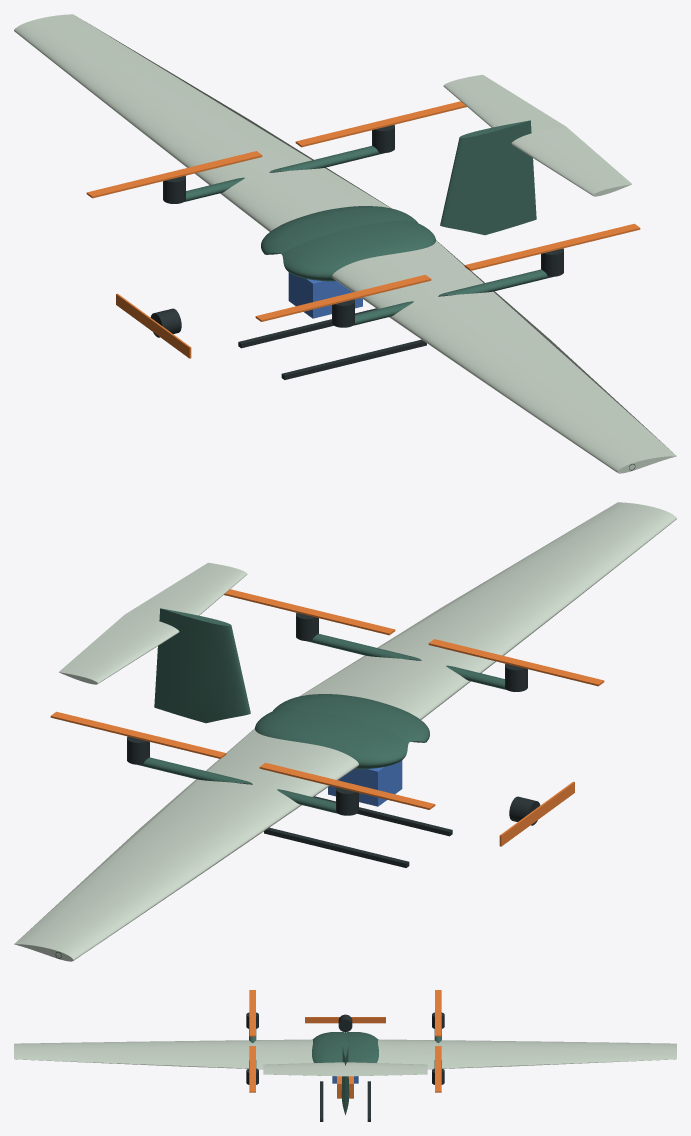
The model's file is surface_tools-04-internal.glb.
3 renders of one model, top to bottom at view 1: azimuth 30°, elevation 25°; view 2: azimuth 150°, elevation 25°; view 3: azimuth 270°, elevation 25°, orthographic. The views are drawn at different scales.
Parts seen in each view (by area): view 1: wing-1, wing1, fin, root_fairing-1, tail-1, root_fairing1, tail1, payload, boom_fairing-1, boom_fairing1, prop_-1_200.0, prop_-1_700.0 (+5 smaller); view 2: wing1, wing-1, fin, root_fairing1, tail1, root_fairing-1, tail-1, payload, boom_fairing1, boom_fairing-1, prop_1_200.0, prop_-1_200.0 (+5 smaller); view 3: wing-1, wing1, tail-1, tail1, root_fairing-1, root_fairing1, cruise_prop, fin, prop_-1_200.0, prop_-1_700.0, prop_1_200.0, prop_1_700.0 (+2 smaller).
Part boxes in pixels (box(x1,y1,x2,y2)): wing-1: box(332, 240, 676, 473); wing1: box(14, 14, 391, 231); fin: box(440, 120, 536, 235); root_fairing-1: box(282, 220, 435, 281); tail-1: box(511, 126, 631, 196); root_fairing1: box(261, 206, 417, 254); tail1: box(443, 74, 565, 132); payload: box(288, 272, 362, 318); boom_fairing-1: box(353, 269, 553, 325); boom_fairing1: box(184, 145, 384, 201); prop_-1_200.0: box(255, 274, 431, 321); prop_-1_700.0: box(464, 223, 640, 270); wing1: box(14, 728, 358, 961); wing-1: box(299, 502, 676, 719); fin: box(154, 608, 250, 723); root_fairing1: box(255, 708, 408, 769); tail1: box(59, 614, 179, 684); root_fairing-1: box(273, 694, 429, 742); tail-1: box(125, 562, 247, 620); payload: box(328, 760, 402, 806); boom_fairing1: box(137, 757, 337, 813); boom_fairing-1: box(306, 633, 506, 689); prop_1_200.0: box(259, 762, 435, 809); prop_-1_200.0: box(428, 639, 604, 686); wing-1: box(14, 1039, 313, 1069); wing1: box(377, 1039, 676, 1069); tail-1: box(263, 1062, 345, 1076); tail1: box(345, 1062, 427, 1076); root_fairing-1: box(312, 1032, 345, 1062); root_fairing1: box(345, 1032, 378, 1062); cruise_prop: box(305, 1017, 385, 1023); fin: box(341, 1039, 349, 1115); prop_-1_200.0: box(249, 990, 255, 1036); prop_-1_700.0: box(249, 1046, 255, 1092); prop_1_200.0: box(435, 990, 441, 1036); prop_1_700.0: box(435, 1046, 441, 1092).
Bounding box in the file's own units: 989 × 405 × 2500.
